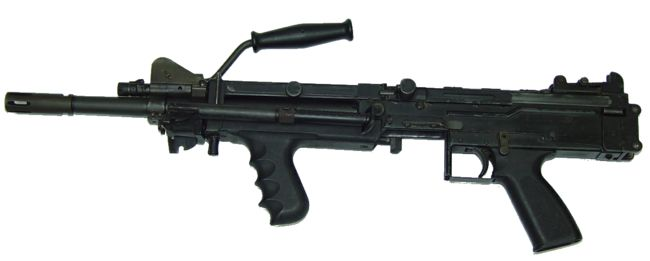rifle: (5, 10, 646, 251)
